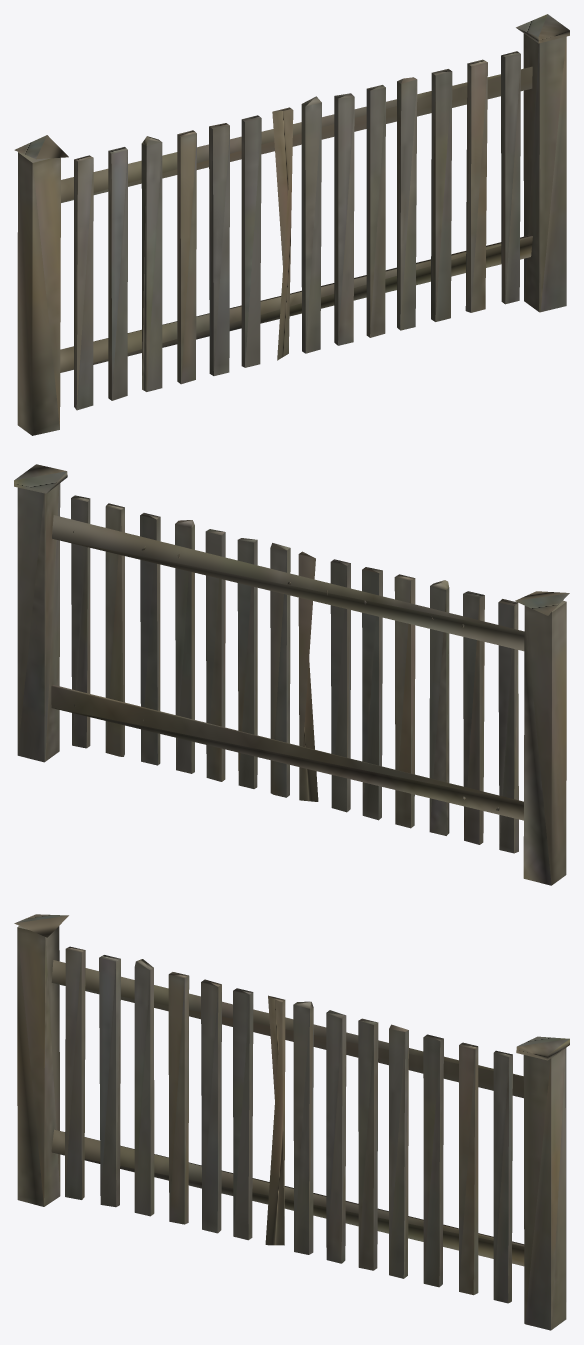
The model's file is fence.lod2.glb.
The picture shows the model from 3 angles, top to bottom: view 1: azimuth 30°, elevation 25°; view 2: azimuth 150°, elevation 25°; view 3: azimuth 330°, elevation 25°; orthographic projection.
Bounding box in the file's own units: 2 × 1 × 0.1449.
1 material, 1 textured.
